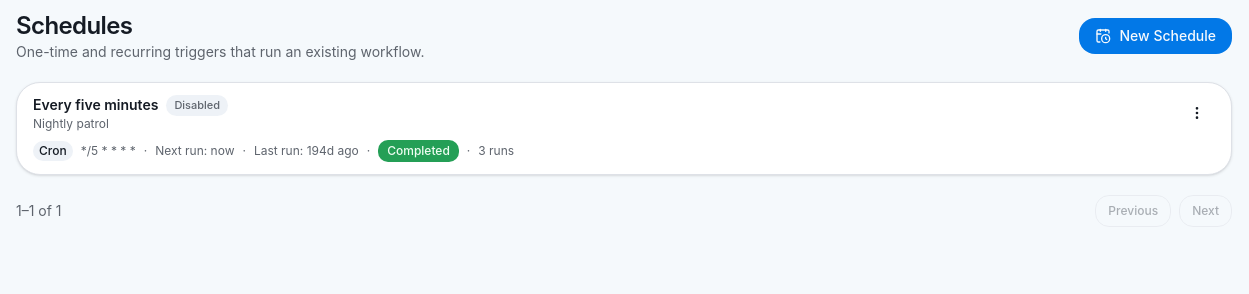
SchedulesPage › shows Enable in the row menu for a disabled schedule
Click the button named "Schedule actions" at [1197, 113], box 1179,95 -> 1215,131
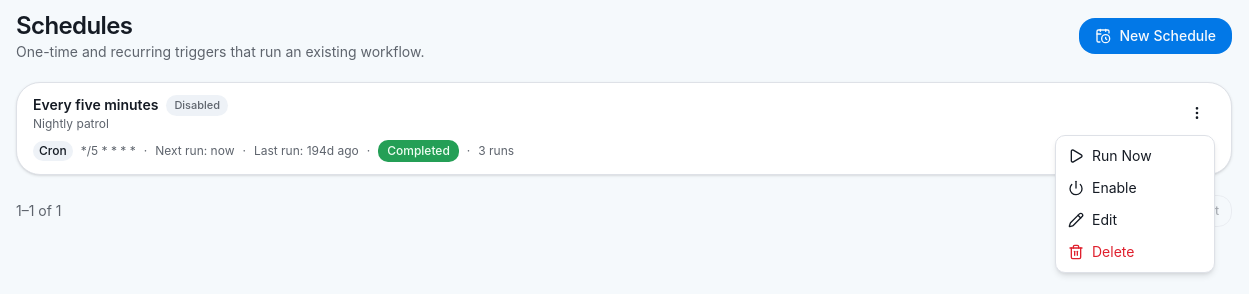
Expected: the menu item "Enable" is shown, 1068,179 -> 1137,196
